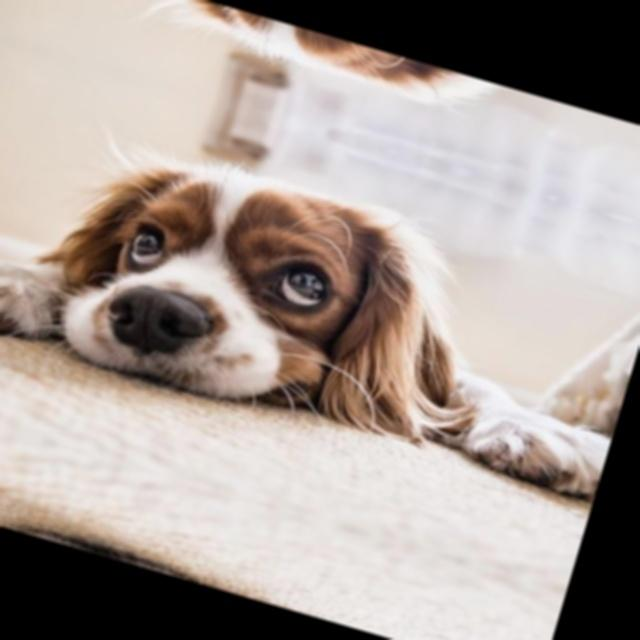dog: (6, 94, 502, 474), (101, 0, 538, 156), (0, 494, 384, 635)
